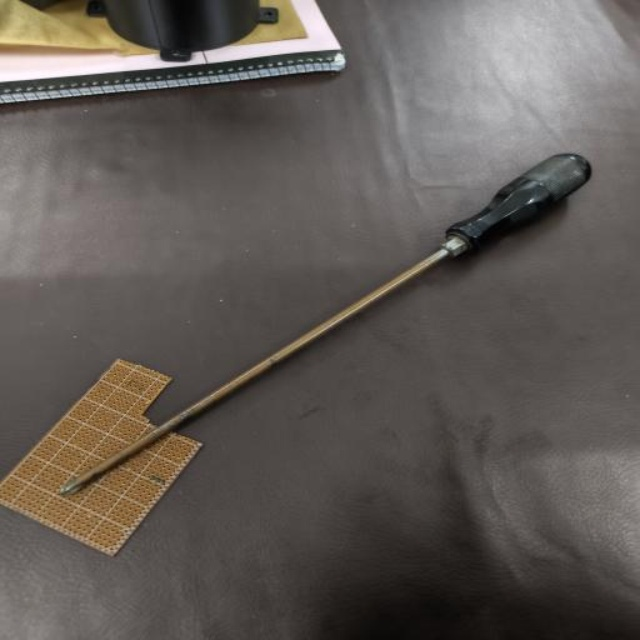screwdriver: (55, 154, 592, 497)
